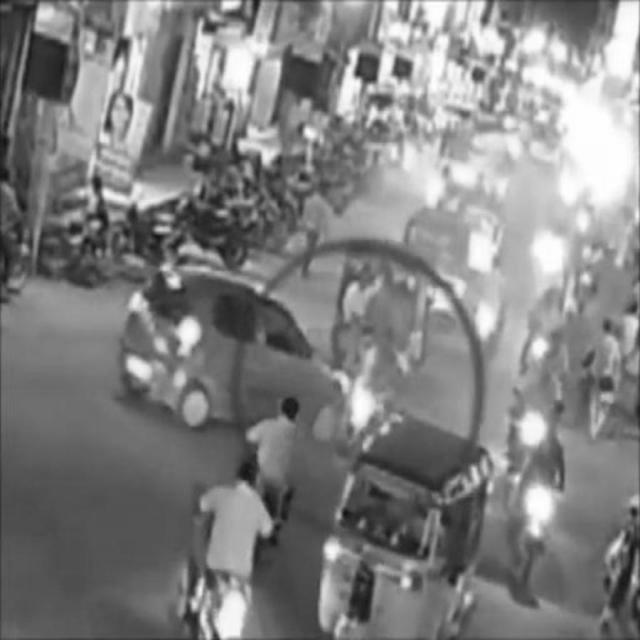accident: (116, 264, 413, 454)
vehicle: (322, 411, 482, 639), (180, 462, 268, 639), (335, 238, 429, 389), (236, 389, 306, 547)
